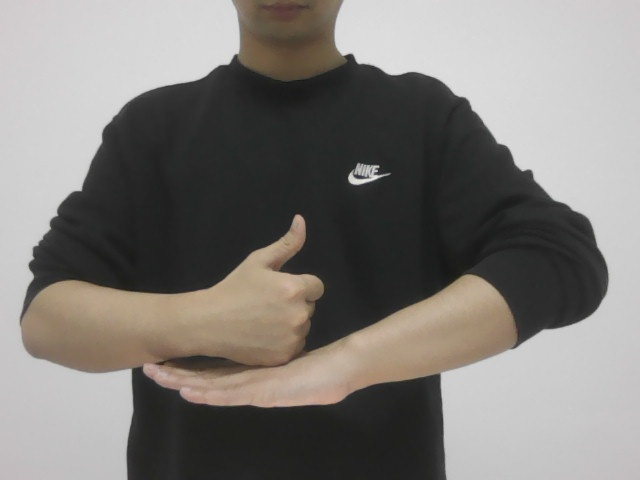new: (138, 208, 368, 411)
